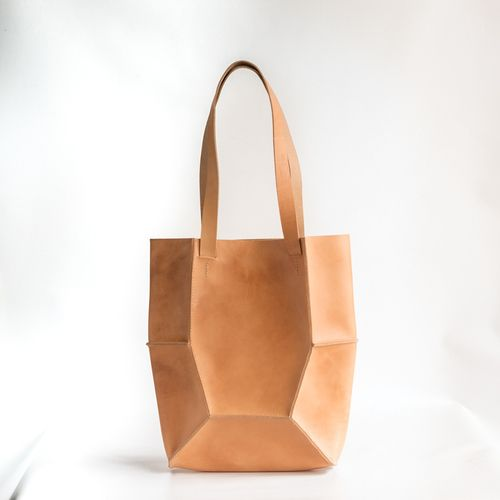cuero: (149, 60, 357, 473)
